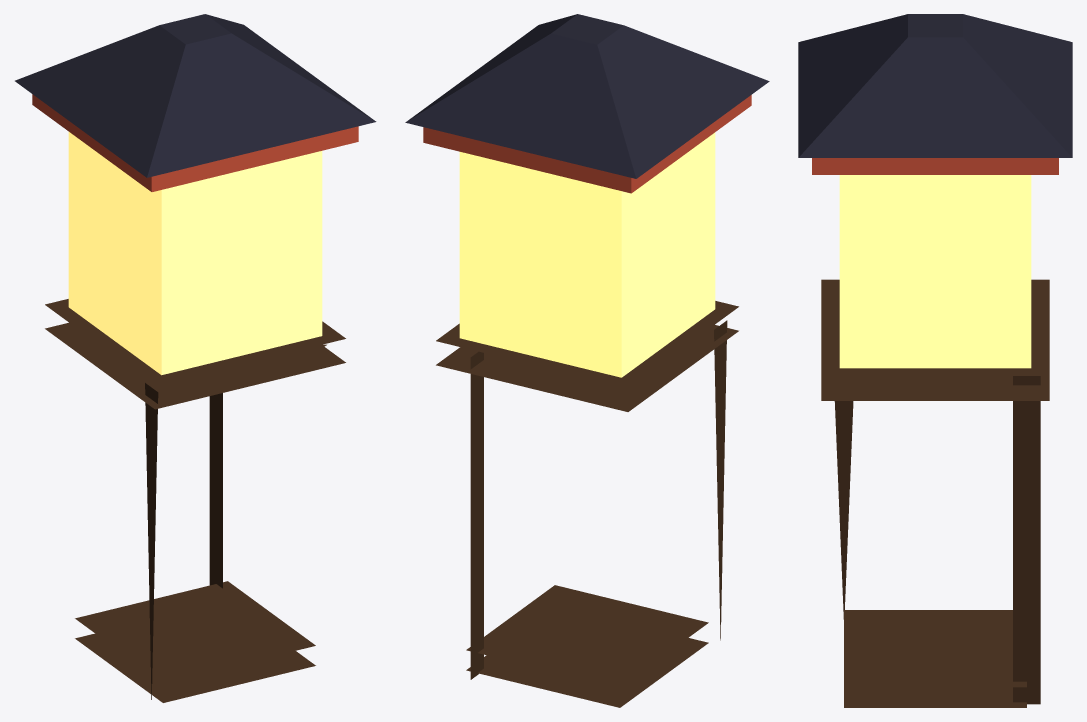
The model's file is night_lantern_stand_lod1.glb.
3 renders of one model, left to right at view 1: azimuth 30°, elevation 25°; view 2: azimuth 150°, elevation 25°; view 3: azimuth 270°, elevation 25°, orthographic. The views are drawn at different scales.
Visible parts, largest first — view 1: night_lantern_stand_lod1; view 2: night_lantern_stand_lod1; view 3: night_lantern_stand_lod1.
Boxes of the visible parts, x1,y1,x2,y2 form: night_lantern_stand_lod1: [15, 14, 376, 702]; night_lantern_stand_lod1: [405, 14, 769, 707]; night_lantern_stand_lod1: [798, 14, 1072, 707].
Size of the model in its own units: 0.6 by 1.56 by 0.6.
